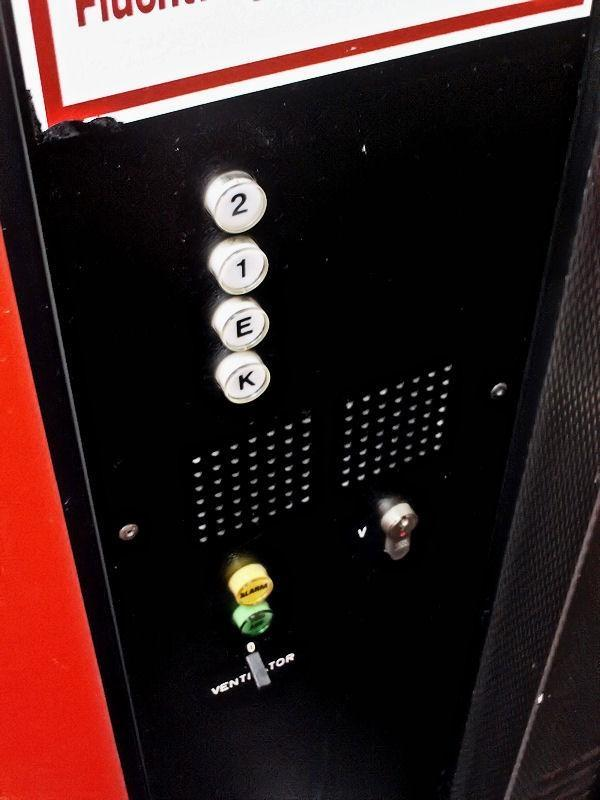1: (204, 233, 270, 296)
2: (200, 167, 270, 234)
keyhole: (376, 500, 418, 562)
unknown: (206, 294, 270, 351), (210, 351, 271, 405), (225, 561, 274, 604), (229, 604, 273, 636)
